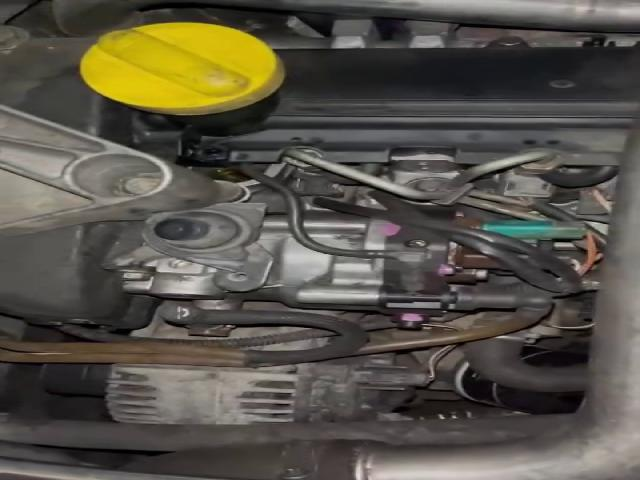alternator: (106, 364, 303, 424)
high_pressure_pump: (124, 211, 459, 329)
